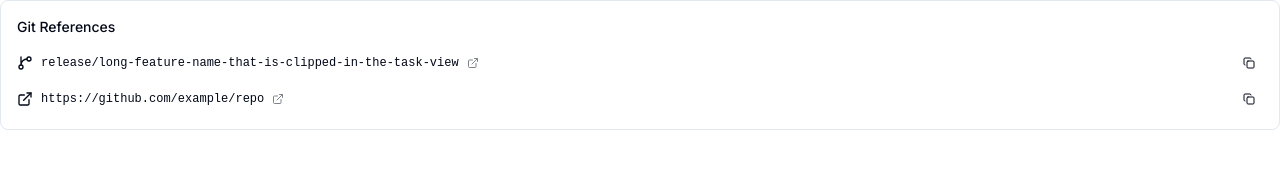
Test: task Git reference copying › copies the complete branch ref even when its rendered link text is clipped
Click the button named "Copy branch reference release/long-feature-name-that-is-clip": (1249, 63) [1235,49,1263,77]
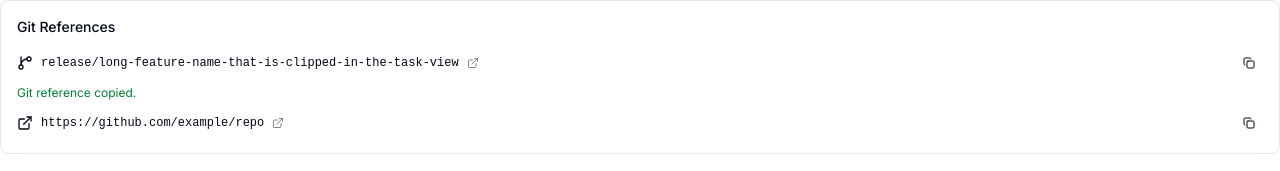
Expected: the message reads "Git reference copied.", [17,85,136,100]
